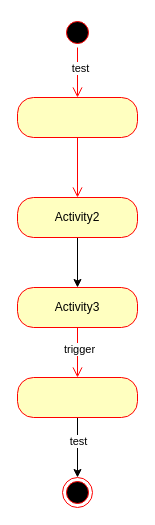
Image size: 155x525. Some labels were removed from this diagram. Each missing label, with the centre of its shape:
Activity1: [77,117]
Activity4: [77,397]
